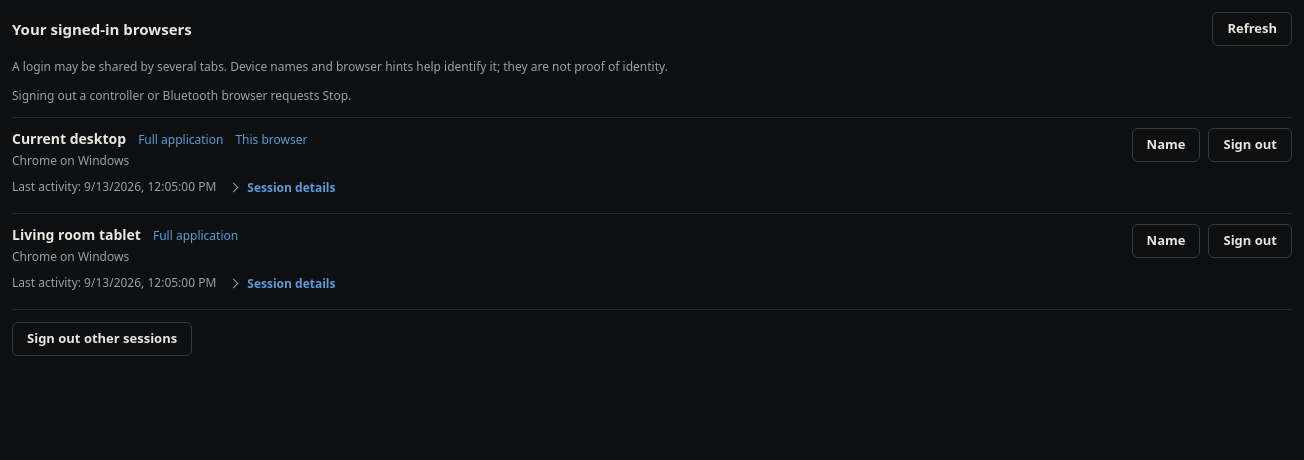
Test: own login management › keeps session expiry details available without expanding every row
expect the text "Last activity: 9/13/2026, 12:05:00 PM" below "Living room tablet" is shown: met, box [12,274,216,291]
expect the text "Idle sign-out:" is not shown: met
Step 1. Click the heading "Session details" below "Living room tablet" → (282, 284), box [228,269,336,299]
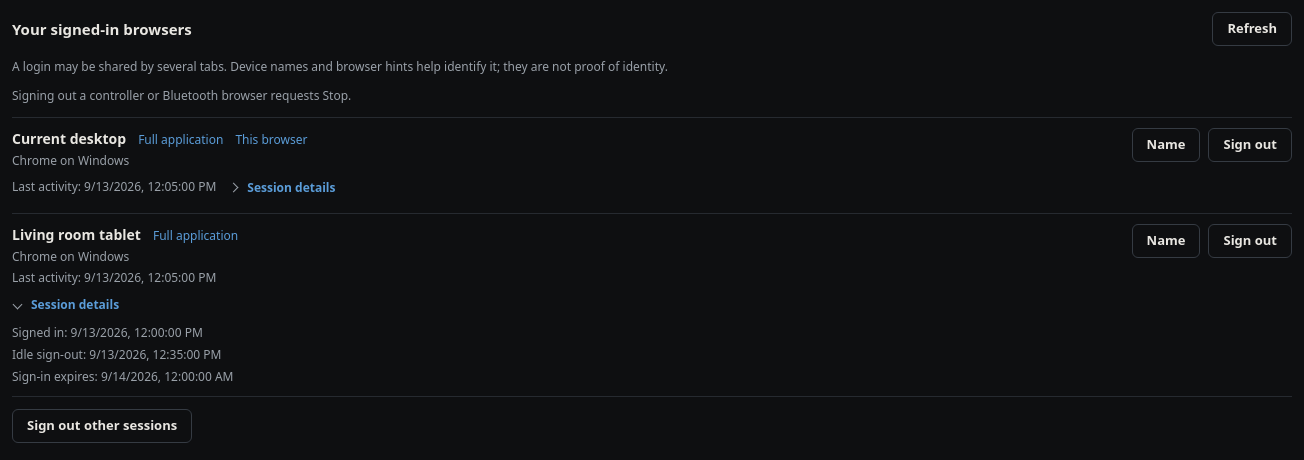
expect the text "Idle sign-out: 9/13/2026, 12:35:00 PM" is shown: met, box [12,346,222,363]
